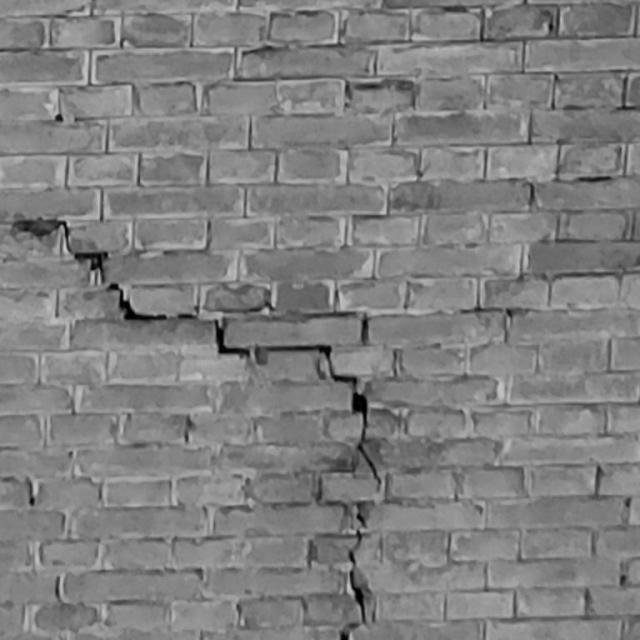crack: (12, 219, 382, 494), (340, 503, 367, 640)
